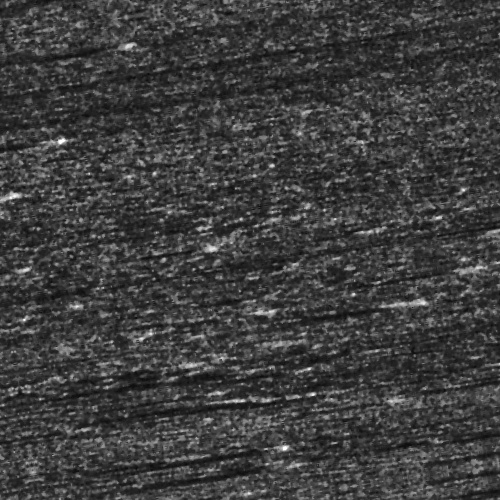object: (201, 461, 284, 470), (195, 359, 258, 368), (363, 321, 426, 330), (0, 151, 51, 162), (423, 296, 500, 303), (178, 390, 231, 397), (32, 104, 85, 111), (135, 22, 176, 31), (472, 411, 500, 420), (157, 380, 198, 385), (248, 441, 259, 450)
shadow: (5, 22, 155, 31), (78, 359, 226, 368), (57, 390, 204, 397), (393, 411, 500, 420), (332, 296, 465, 303), (140, 461, 242, 470), (154, 441, 253, 450), (302, 321, 395, 330), (384, 493, 500, 500), (77, 380, 177, 385), (462, 256, 500, 267), (0, 104, 59, 111), (474, 204, 500, 217), (479, 465, 500, 468)
